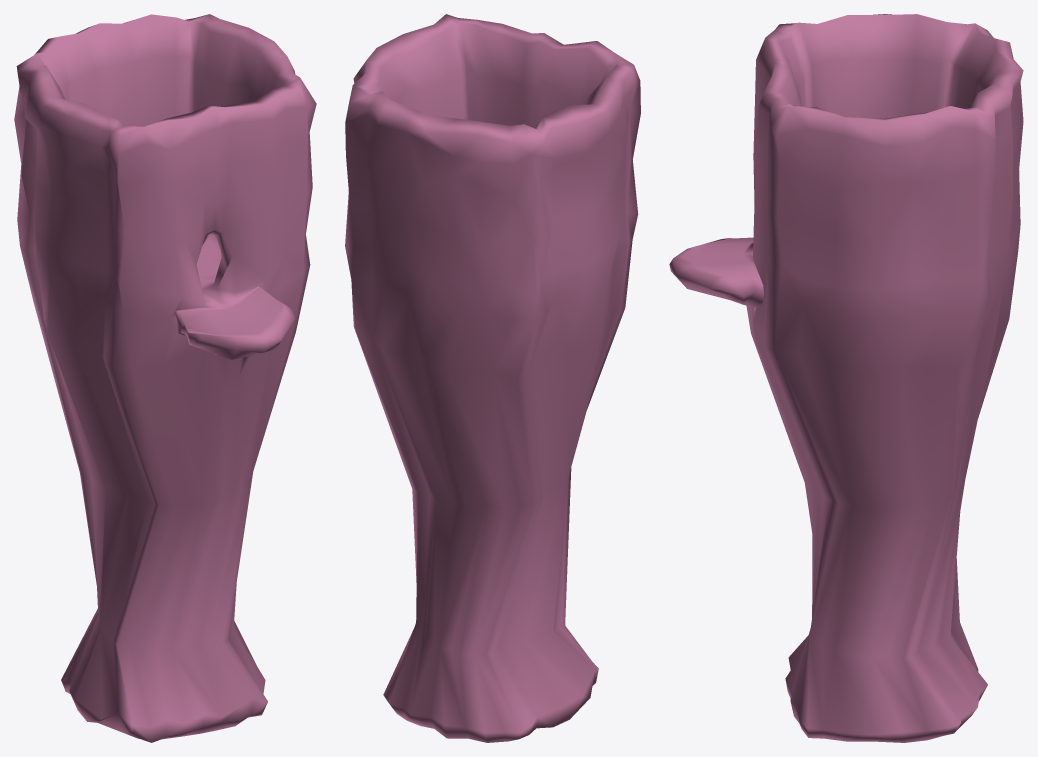
File: terrain_W3A6d.fbx
The picture shows the model from 3 angles, left to right: view 1: azimuth 30°, elevation 25°; view 2: azimuth 150°, elevation 25°; view 3: azimuth 270°, elevation 25°; orthographic projection.
Visible parts, largest first — view 1: W3A6_d; view 2: W3A6_d; view 3: W3A6_d.
Part boxes in pixels (<box>): W3A6_d: <box>14,14,316,742</box>; W3A6_d: <box>345,14,640,742</box>; W3A6_d: <box>669,14,1023,742</box>.
Bounding box in the file's own units: 3897 × 9738 × 4802.
